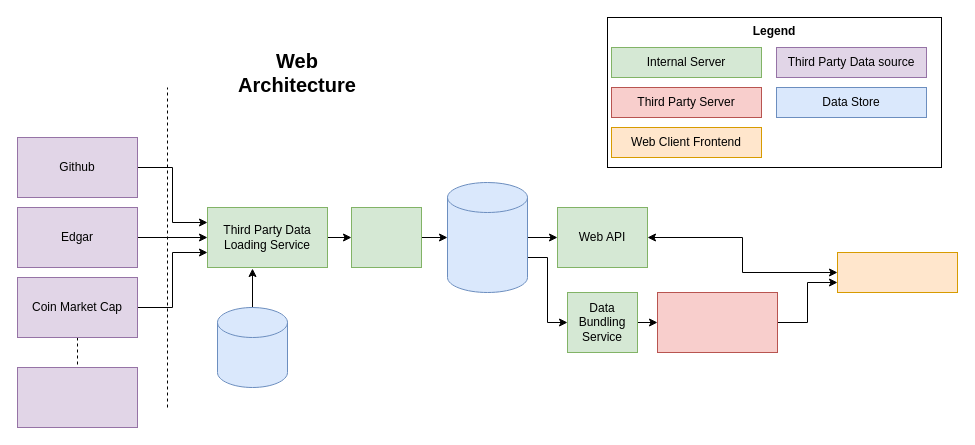
Some shapes in this 975 by 445 pixel diagram are drawn without their labels. The shapes that lost their labels are listed below. From the top down, each one's centre as x and y in pixels, then its label:
At point (386, 237): "Data Processing Service".
At point (487, 237): "Ranking Data DB".
At point (897, 272): "Web Client".
At point (717, 322): "CDN".
At point (252, 347): "Data Source DB".
At point (77, 397): "Other data source".
